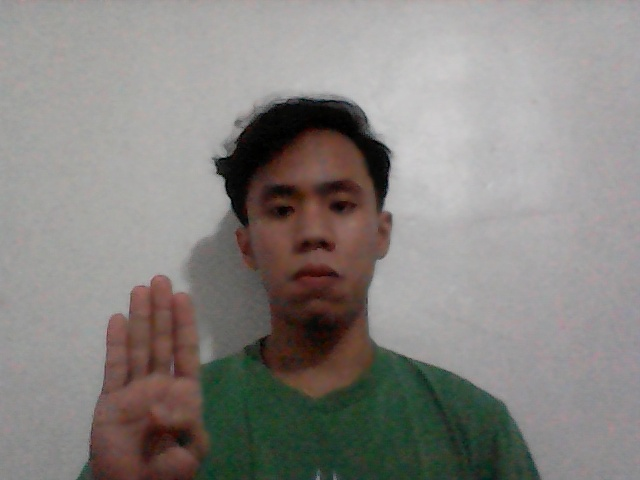B: (63, 266, 244, 480)
